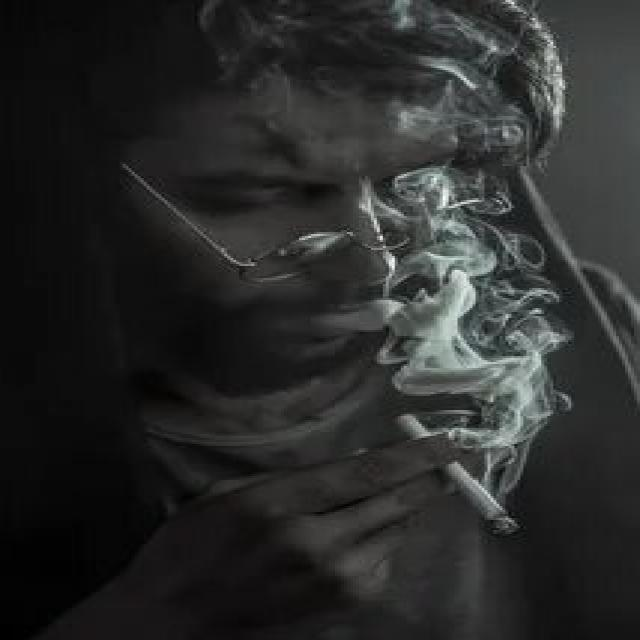smoke: (389, 410, 529, 542)
